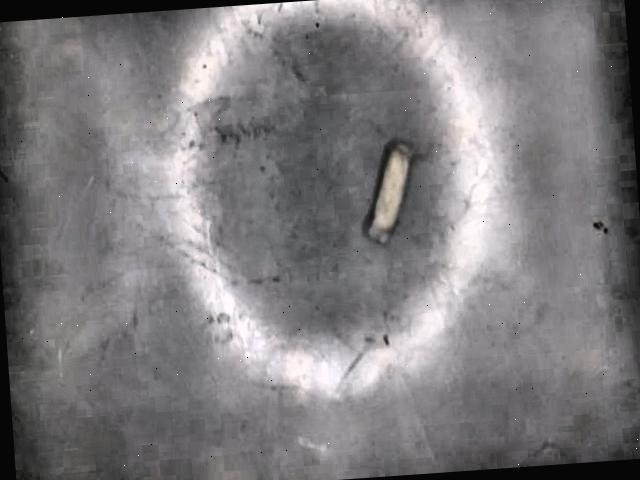Almennt: (365, 140, 414, 247)
